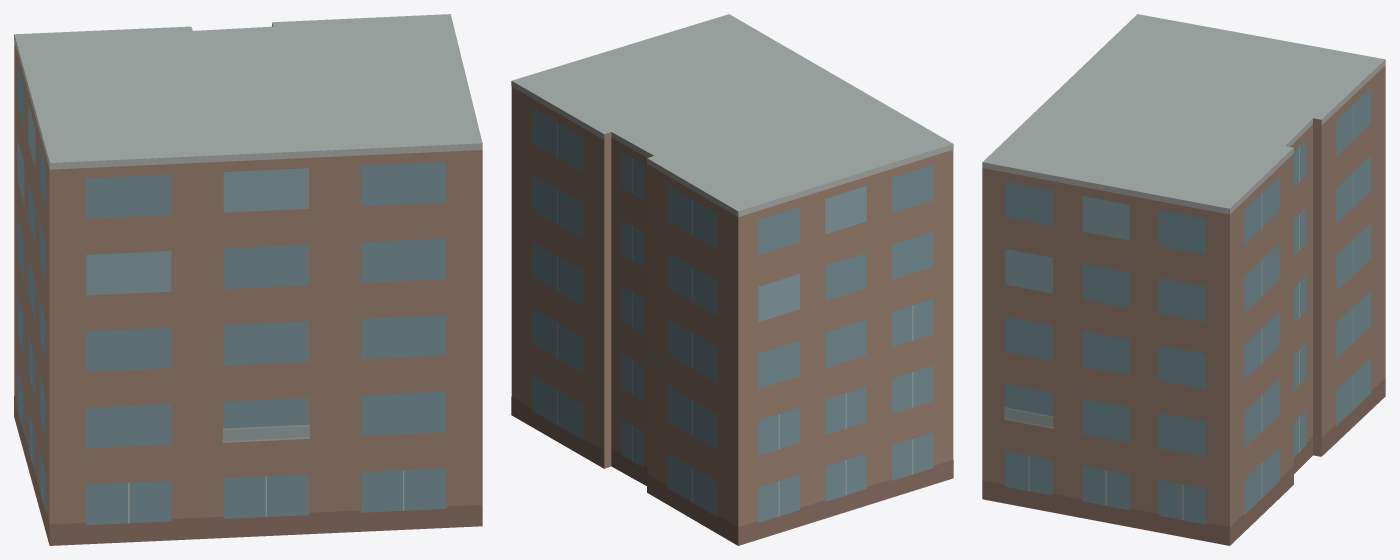
The model's file is survey-upis-32679597.glb.
3 renders of one model, left to right at view 1: azimuth 30°, elevation 25°; view 2: azimuth 150°, elevation 25°; view 3: azimuth 270°, elevation 25°, orthographic. The views are drawn at different scales.
Visible parts, largest first — view 1: survey-upis-32679597.tmp; view 2: survey-upis-32679597.tmp; view 3: survey-upis-32679597.tmp.
Part boxes in pixels (x1=…): survey-upis-32679597.tmp: x1=14, y1=14, x2=482, y2=545; survey-upis-32679597.tmp: x1=511, y1=14, x2=953, y2=545; survey-upis-32679597.tmp: x1=982, y1=14, x2=1385, y2=545.
Bounding box in the file's own units: 17.61 × 14.2 × 15.4.
